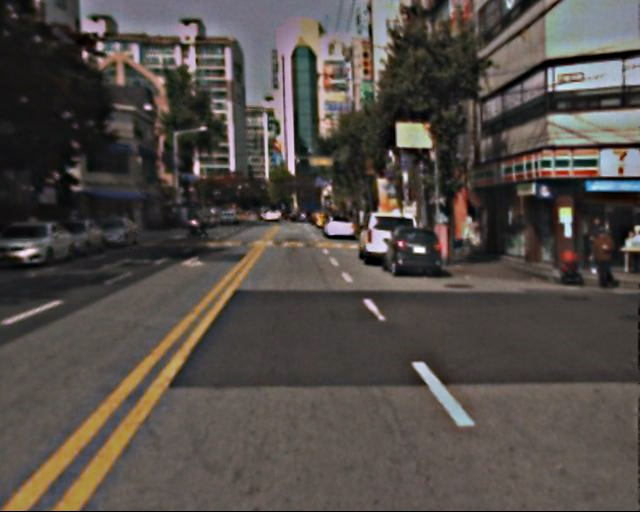person: (589, 217, 619, 286), (201, 206, 215, 237)
